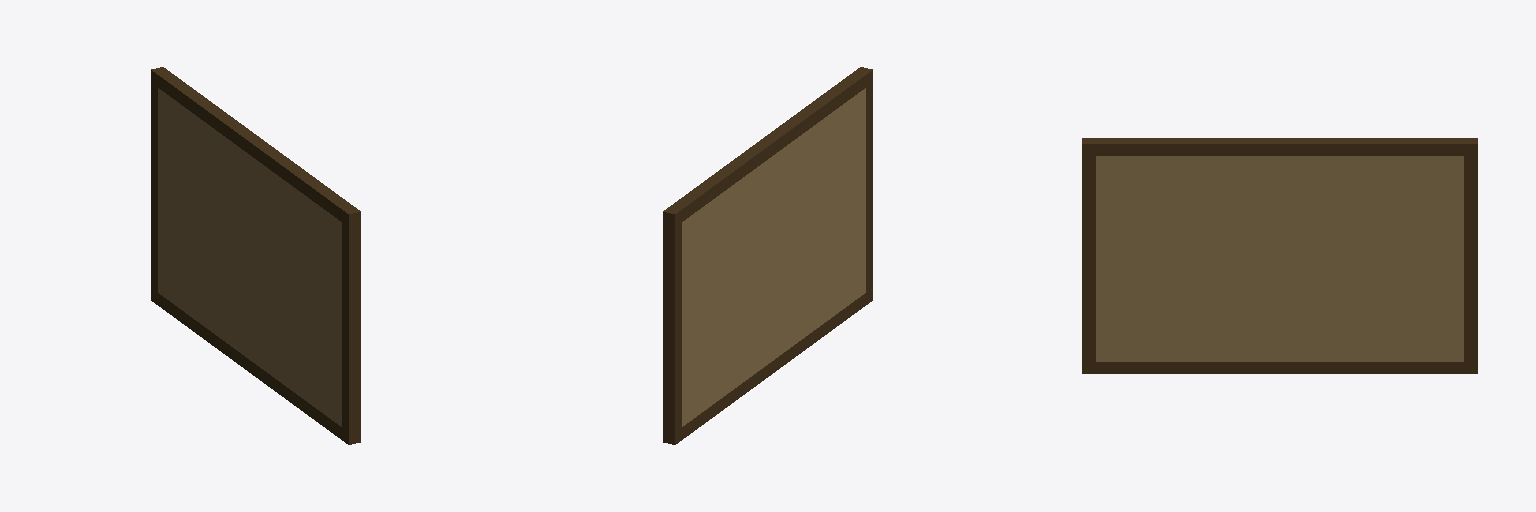
3 renders of one model, left to right at view 1: azimuth 30°, elevation 25°; view 2: azimuth 150°, elevation 25°; view 3: azimuth 270°, elevation 25°, orthographic.
Parts seen in each view (by area): view 1: object 1; view 2: object 1; view 3: object 1.
Boxes of the visible parts, box(x1,y1,x2,y2) form: object 1: box(151, 67, 360, 444); object 1: box(663, 67, 872, 444); object 1: box(1082, 138, 1477, 373).
Bounding box in the file's own units: 0.1 × 1.8 × 2.8.
Materials: 1 (1 with a texture image).